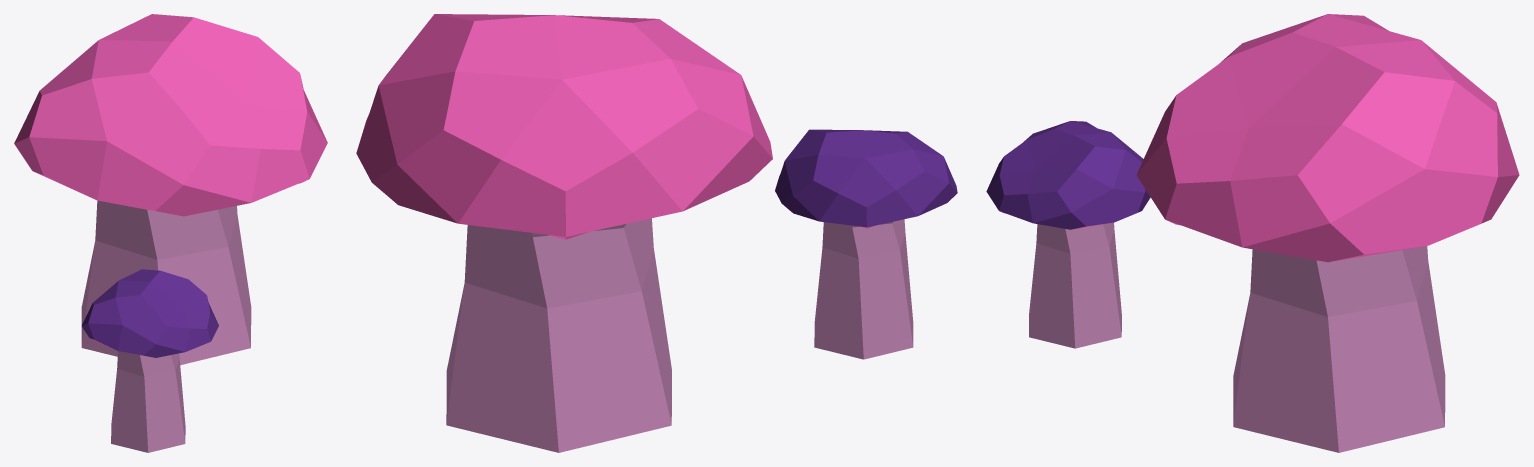
Rendered from Mushroom_Grass_01.fbx.
3 renders of one model, left to right at view 1: azimuth 30°, elevation 25°; view 2: azimuth 150°, elevation 25°; view 3: azimuth 270°, elevation 25°, orthographic. The views are drawn at different scales.
Visible parts, largest first — view 1: Vege_Grass_01; view 2: Vege_Grass_01; view 3: Vege_Grass_01.
Boxes of the visible parts, box(x1,y1,x2,y2) form: Vege_Grass_01: box(14, 14, 327, 452); Vege_Grass_01: box(356, 14, 957, 452); Vege_Grass_01: box(986, 14, 1519, 452).
Bounding box in the file's own units: 93.98 × 79.98 × 108.
